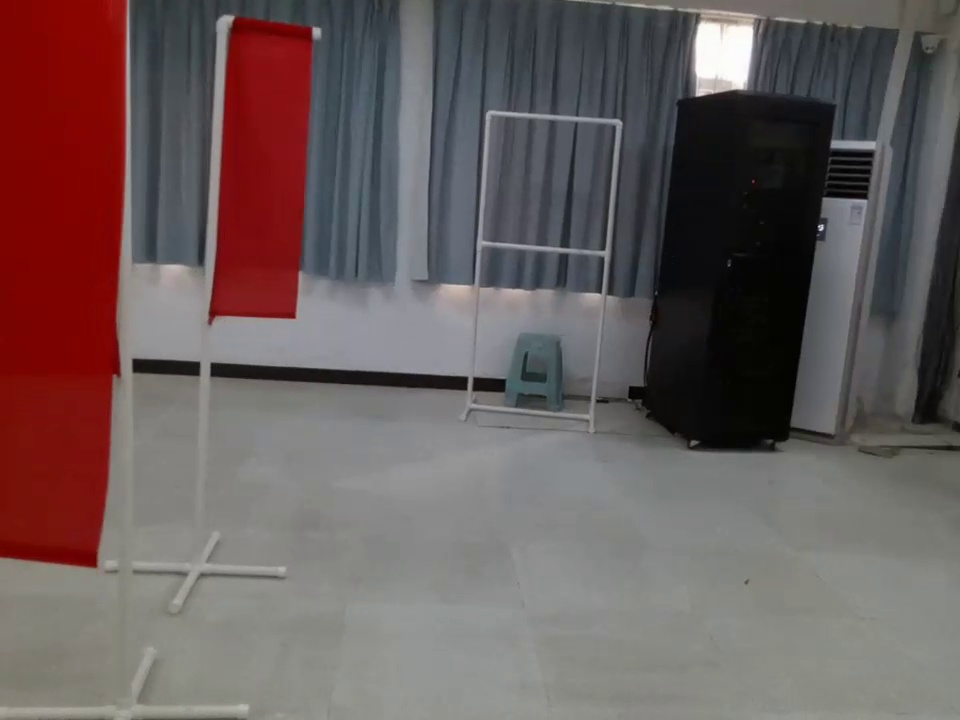qi: (1, 3, 132, 588), (198, 11, 324, 354)
